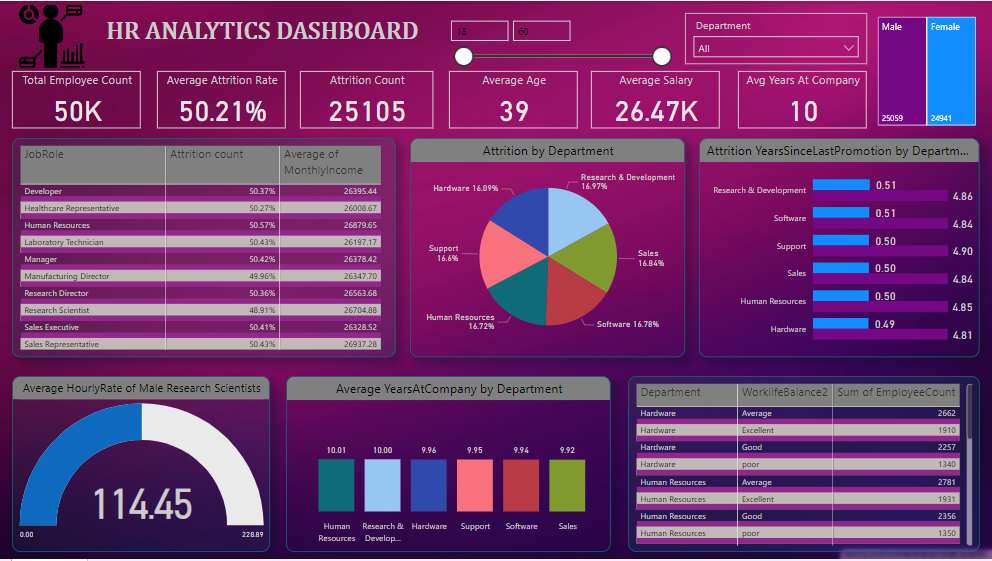

What the dashboard file says about the page in this screenshot:
{"tool":"powerbi","page":{"name":"HR-Analytics","canvas":[1280,720],"ordinal":0},"visuals":[{"type":"pieChart","title":"Attrition by Department","fields":{"Category":["Table_Merge1.Department"],"Y":["Sum(Table_Merge1.Average Attrition)"]},"box":[529.3,177.4,354.7,283.2],"z":0},{"type":"gauge","title":"Average HourlyRate of Male Research Scientists","fields":{"Y":["Avg(Table_Merge1.HourlyRate)"]},"box":[15.1,484,332.7,226.9],"z":1000},{"type":"tableEx","title":"Average of Attrition and Monthly Income By Job Role","fields":{"Values":["Table_Merge1.JobRole","Table_Merge1.Attrition count","Avg(Table_Merge1.MonthlyIncome)"]},"box":[15.1,177.4,495,283.2],"z":2000},{"type":"clusteredColumnChart","title":"Average YearsAtCompany by Department","fields":{"Category":["Table_Merge1.Department"],"Y":["Avg(Table_Merge1.YearsAtCompany)"]},"box":[368.5,484,419.3,226.9],"z":3000},{"type":"tableEx","fields":{"Values":["Table_Merge1.Department","Table_Merge1.WorklifeBalance2","Sum(Table_Merge1.EmployeeCount)"]},"box":[809.8,484,453.7,226.9],"z":4000},{"type":"clusteredBarChart","title":"Attrition YearsSinceLastPromotion by Department","fields":{"Category":["Table_Merge1.Department"],"Y":["Avg(Table_Merge1.Average Attrition)","Avg(Table_Merge1.YearsSinceLastPromotion)"]},"box":[901.9,177.4,361.6,283.2],"z":5000},{"type":"card","title":"Total Employee Count","fields":{"Values":["Sum(Table_Merge1.EmployeeCount)"]},"box":[15.1,90.7,166.4,74.2],"z":6000},{"type":"card","title":"Average Attrition Rate","fields":{"Values":["Table_Merge1.Attrition count"]},"box":[202.1,90.7,166.4,74.2],"z":7000},{"type":"card","title":"Attrition Count","fields":{"Values":["Sum(Table_Merge1.Average Attrition)"]},"box":[387.7,90.7,171.9,74.2],"z":8000},{"type":"card","title":"Average Age","fields":{"Values":["Avg(Table_Merge1.Age)"]},"box":[578.8,90.7,166.4,74.2],"z":9000},{"type":"card","title":"Average Salary","fields":{"Values":["Avg(Table_Merge1.MonthlyIncome)"]},"box":[763.1,90.7,166.4,74.2],"z":10000},{"type":"card","title":"Avg Years At Company","fields":{"Values":["Avg(Table_Merge1.YearsAtCompany)"]},"box":[952.8,90.7,166.4,74.2],"z":11000},{"type":"treemap","fields":{"Group":["Table_Merge1.Gender"],"Values":["Sum(Table_Merge1.EmployeeCount)"]},"box":[1127.4,15.1,136.1,149.9],"z":12000},{"type":"slicer","fields":{"Values":["Table_Merge1.Department"]},"box":[884,15.1,235.1,66],"z":13000},{"type":"textbox","box":[115.5,15.1,444.1,52.2],"z":14000},{"type":"slicer","fields":{"Values":["Table_Merge1.Age"]},"box":[569.2,15.1,305.2,129.2],"z":15000},{"type":"image","box":[15.1,0,100.4,90.7],"z":16000}]}

Visuals, with their boxes in screenshot pixels (x1, y1, x2, y2), scaled from the page's 1280x720 canvas onto the 992x561 screenshot:
"Attrition by Department" pieChart: <region>410, 138, 685, 359</region>
"Average HourlyRate of Male Research Scientists" gauge: <region>12, 377, 270, 554</region>
"Average of Attrition and Monthly Income By Job Role" tableEx: <region>12, 138, 395, 359</region>
"Average YearsAtCompany by Department" clusteredColumnChart: <region>286, 377, 611, 554</region>
tableEx - Table_Merge1.Department x Table_Merge1.WorklifeBalance2: <region>628, 377, 979, 554</region>
"Attrition YearsSinceLastPromotion by Department" clusteredBarChart: <region>699, 138, 979, 359</region>
"Total Employee Count" card: <region>12, 71, 141, 128</region>
"Average Attrition Rate" card: <region>157, 71, 286, 128</region>
"Attrition Count" card: <region>300, 71, 434, 128</region>
"Average Age" card: <region>449, 71, 578, 128</region>
"Average Salary" card: <region>591, 71, 720, 128</region>
"Avg Years At Company" card: <region>738, 71, 867, 128</region>
treemap - Table_Merge1.Gender x Sum(Table_Merge1.EmployeeCount): <region>874, 12, 979, 129</region>
slicer - Table_Merge1.Department: <region>685, 12, 867, 63</region>
textbox: <region>90, 12, 434, 52</region>
slicer - Table_Merge1.Age: <region>441, 12, 678, 112</region>
image: <region>12, 0, 90, 71</region>
